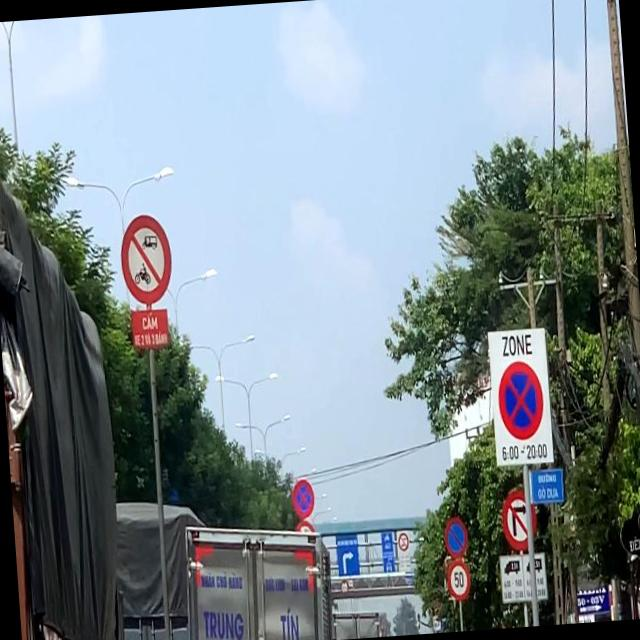P-104: (119, 210, 174, 308)
P-130: (497, 358, 545, 440)
